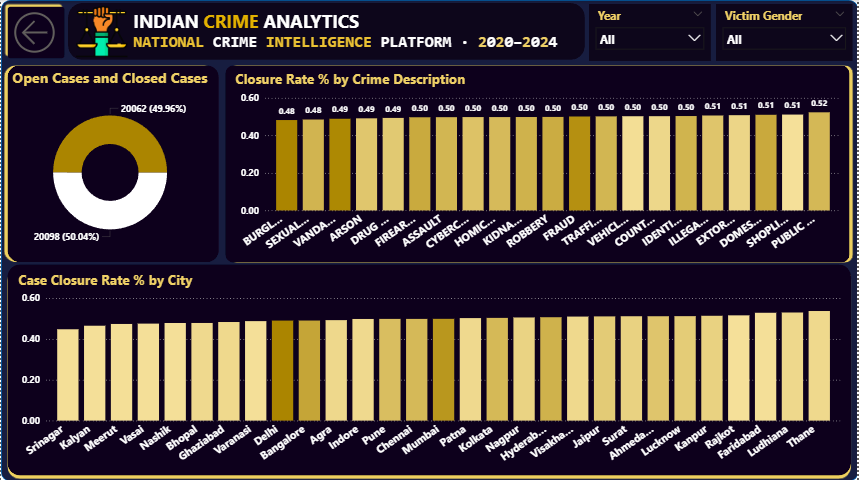

What the dashboard file says about the page in this screenshot:
{"tool":"powerbi","page":{"name":"Open & Closed Case","canvas":[1280,720],"ordinal":1},"visuals":[{"type":"shape","box":[0,0,1280.6,719.4],"z":0},{"type":"shape","box":[100,4.5,772.3,85],"z":1000},{"type":"textbox","box":[192,7.3,666.2,79.3],"z":2000},{"type":"image","box":[111.5,7.3,77.4,79.3],"z":3000},{"type":"slicer","fields":{"Values":["crime_india_powerbi_ready.Year"]},"box":[879,6.1,181.8,85],"z":4000},{"type":"shape","box":[4,92,326,304],"z":5000},{"type":"shape","box":[330.1,92.6,942.6,304.7],"z":6000},{"type":"shape","box":[5.2,389.7,1270.7,325.9],"z":7000},{"type":"slicer","fields":{"Values":["crime_india_powerbi_ready.Victim Gender"]},"box":[1068.8,6.1,204.5,85],"z":8000},{"type":"donutChart","fields":{"Y":["crime_india_powerbi_ready.Open Cases","crime_india_powerbi_ready.Closed Cases"]},"box":[12,102,302,284],"z":9000},{"type":"shape","box":[4.5,4.5,95.5,87.9],"z":10000},{"type":"actionButton","box":[11.8,10.5,79,76.1],"z":11000},{"type":"columnChart","fields":{"Category":["crime_india_powerbi_ready.City"],"Y":["crime_india_powerbi_ready.Closure Rate %"]},"box":[21.4,402.9,1238.6,300],"z":12000},{"type":"clusteredColumnChart","fields":{"Category":["crime_india_powerbi_ready.Crime Description"],"Y":["crime_india_powerbi_ready.Closure Rate %"]},"box":[345.1,103.1,914.2,282.3],"z":13000}]}

Visuals, with their boxes in screenshot pixels (x1, y1, x2, y2), scaled from the page's 1280x720 canvas onto the 859x480 screenshot:
shape: Rect(0, 0, 858, 479)
shape: Rect(67, 3, 585, 60)
textbox: Rect(129, 5, 576, 58)
image: Rect(75, 5, 127, 58)
slicer - crime_india_powerbi_ready.Year: Rect(590, 4, 712, 61)
shape: Rect(3, 61, 221, 264)
shape: Rect(222, 62, 854, 265)
shape: Rect(3, 260, 856, 477)
slicer - crime_india_powerbi_ready.Victim Gender: Rect(717, 4, 855, 61)
donutChart - crime_india_powerbi_ready.Open Cases x crime_india_powerbi_ready.Closed Cases: Rect(8, 68, 211, 257)
shape: Rect(3, 3, 67, 62)
actionButton: Rect(8, 7, 61, 58)
columnChart - crime_india_powerbi_ready.City x crime_india_powerbi_ready.Closure Rate %: Rect(14, 269, 846, 469)
clusteredColumnChart - crime_india_powerbi_ready.Crime Description x crime_india_powerbi_ready.Closure Rate %: Rect(232, 69, 845, 257)
